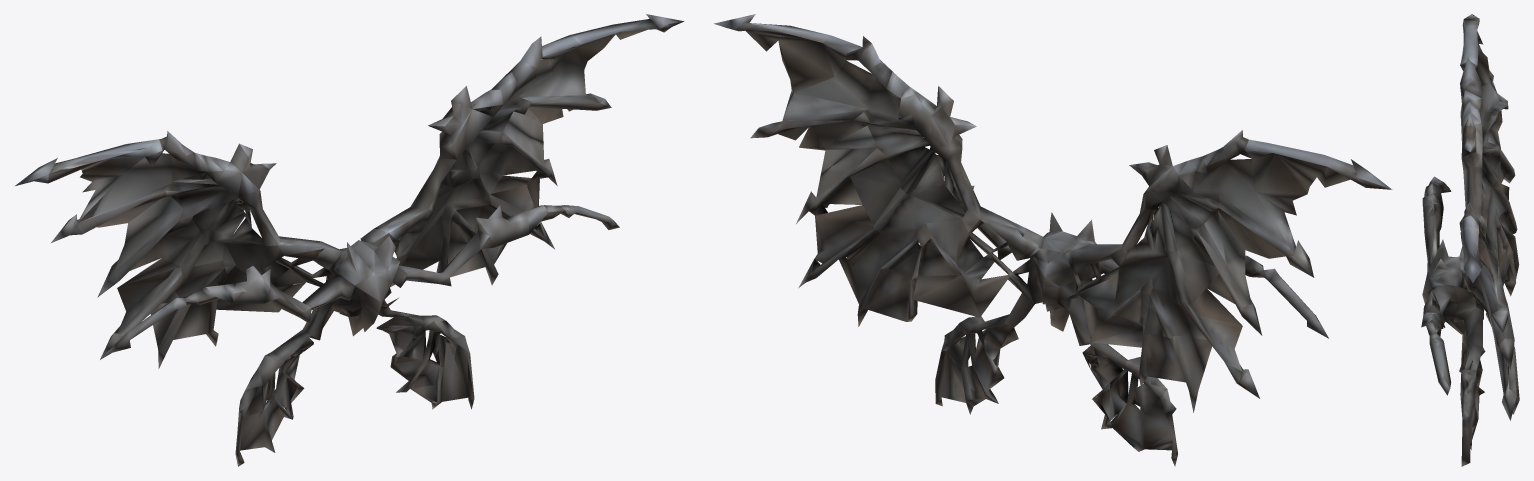
File: 2000钢铁翅膀4.fbx
3 renders of one model, left to right at view 1: azimuth 30°, elevation 25°; view 2: azimuth 150°, elevation 25°; view 3: azimuth 270°, elevation 25°, orthographic. The views are drawn at different scales.
Parts seen in each view (by area): view 1: geometry_0.004; view 2: geometry_0.004; view 3: geometry_0.004.
Boxes of the visible parts, bbox=[...] form: geometry_0.004: bbox=[15, 14, 684, 466]; geometry_0.004: bbox=[714, 14, 1392, 466]; geometry_0.004: bbox=[1421, 14, 1519, 466].
Bounding box in the file's own units: 96.81 × 48.78 × 14.9.
